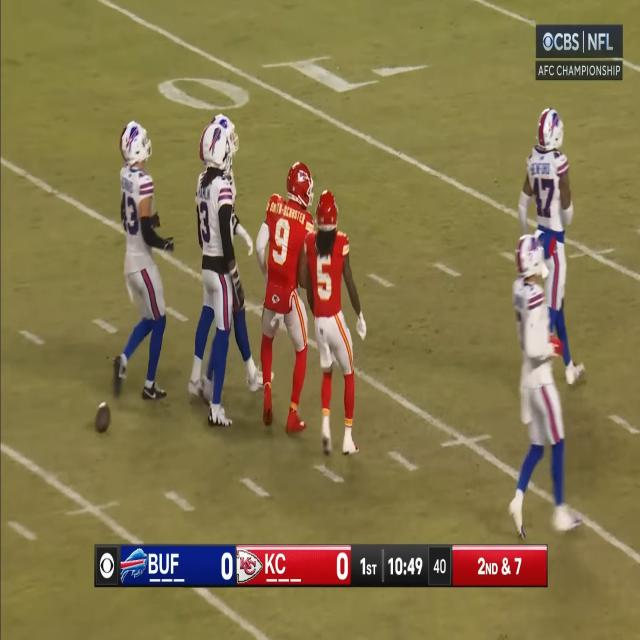Ball: (94, 403, 110, 434)
